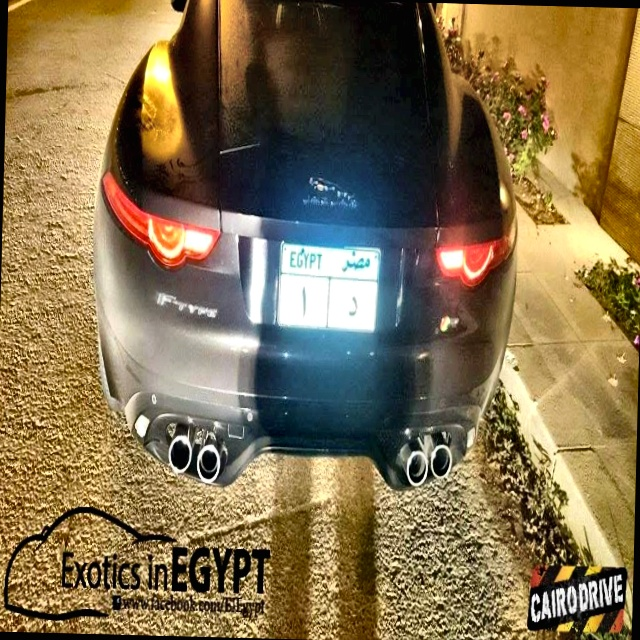License Plate: (274, 239, 383, 338)
